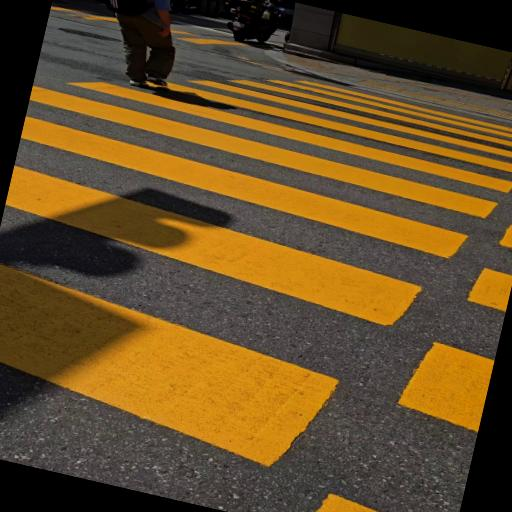yellow-crosswalk: (0, 10, 512, 512), (48, 0, 269, 68)
